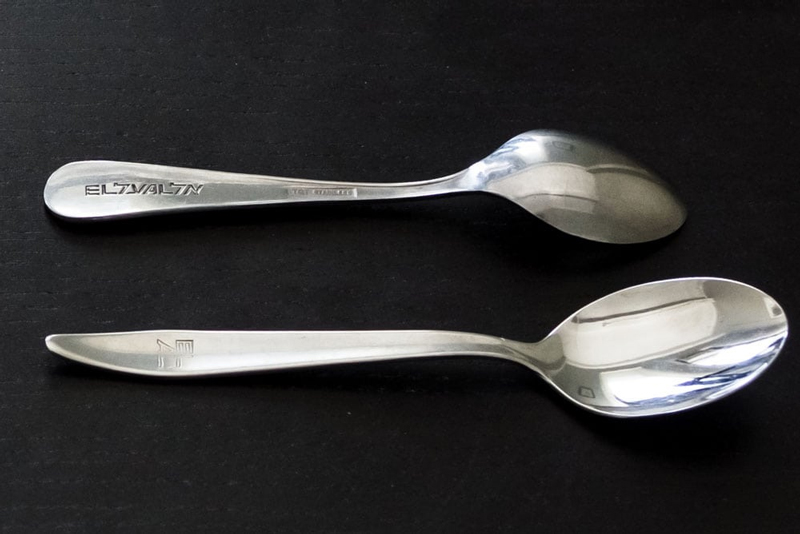metal: (44, 128, 787, 415)
